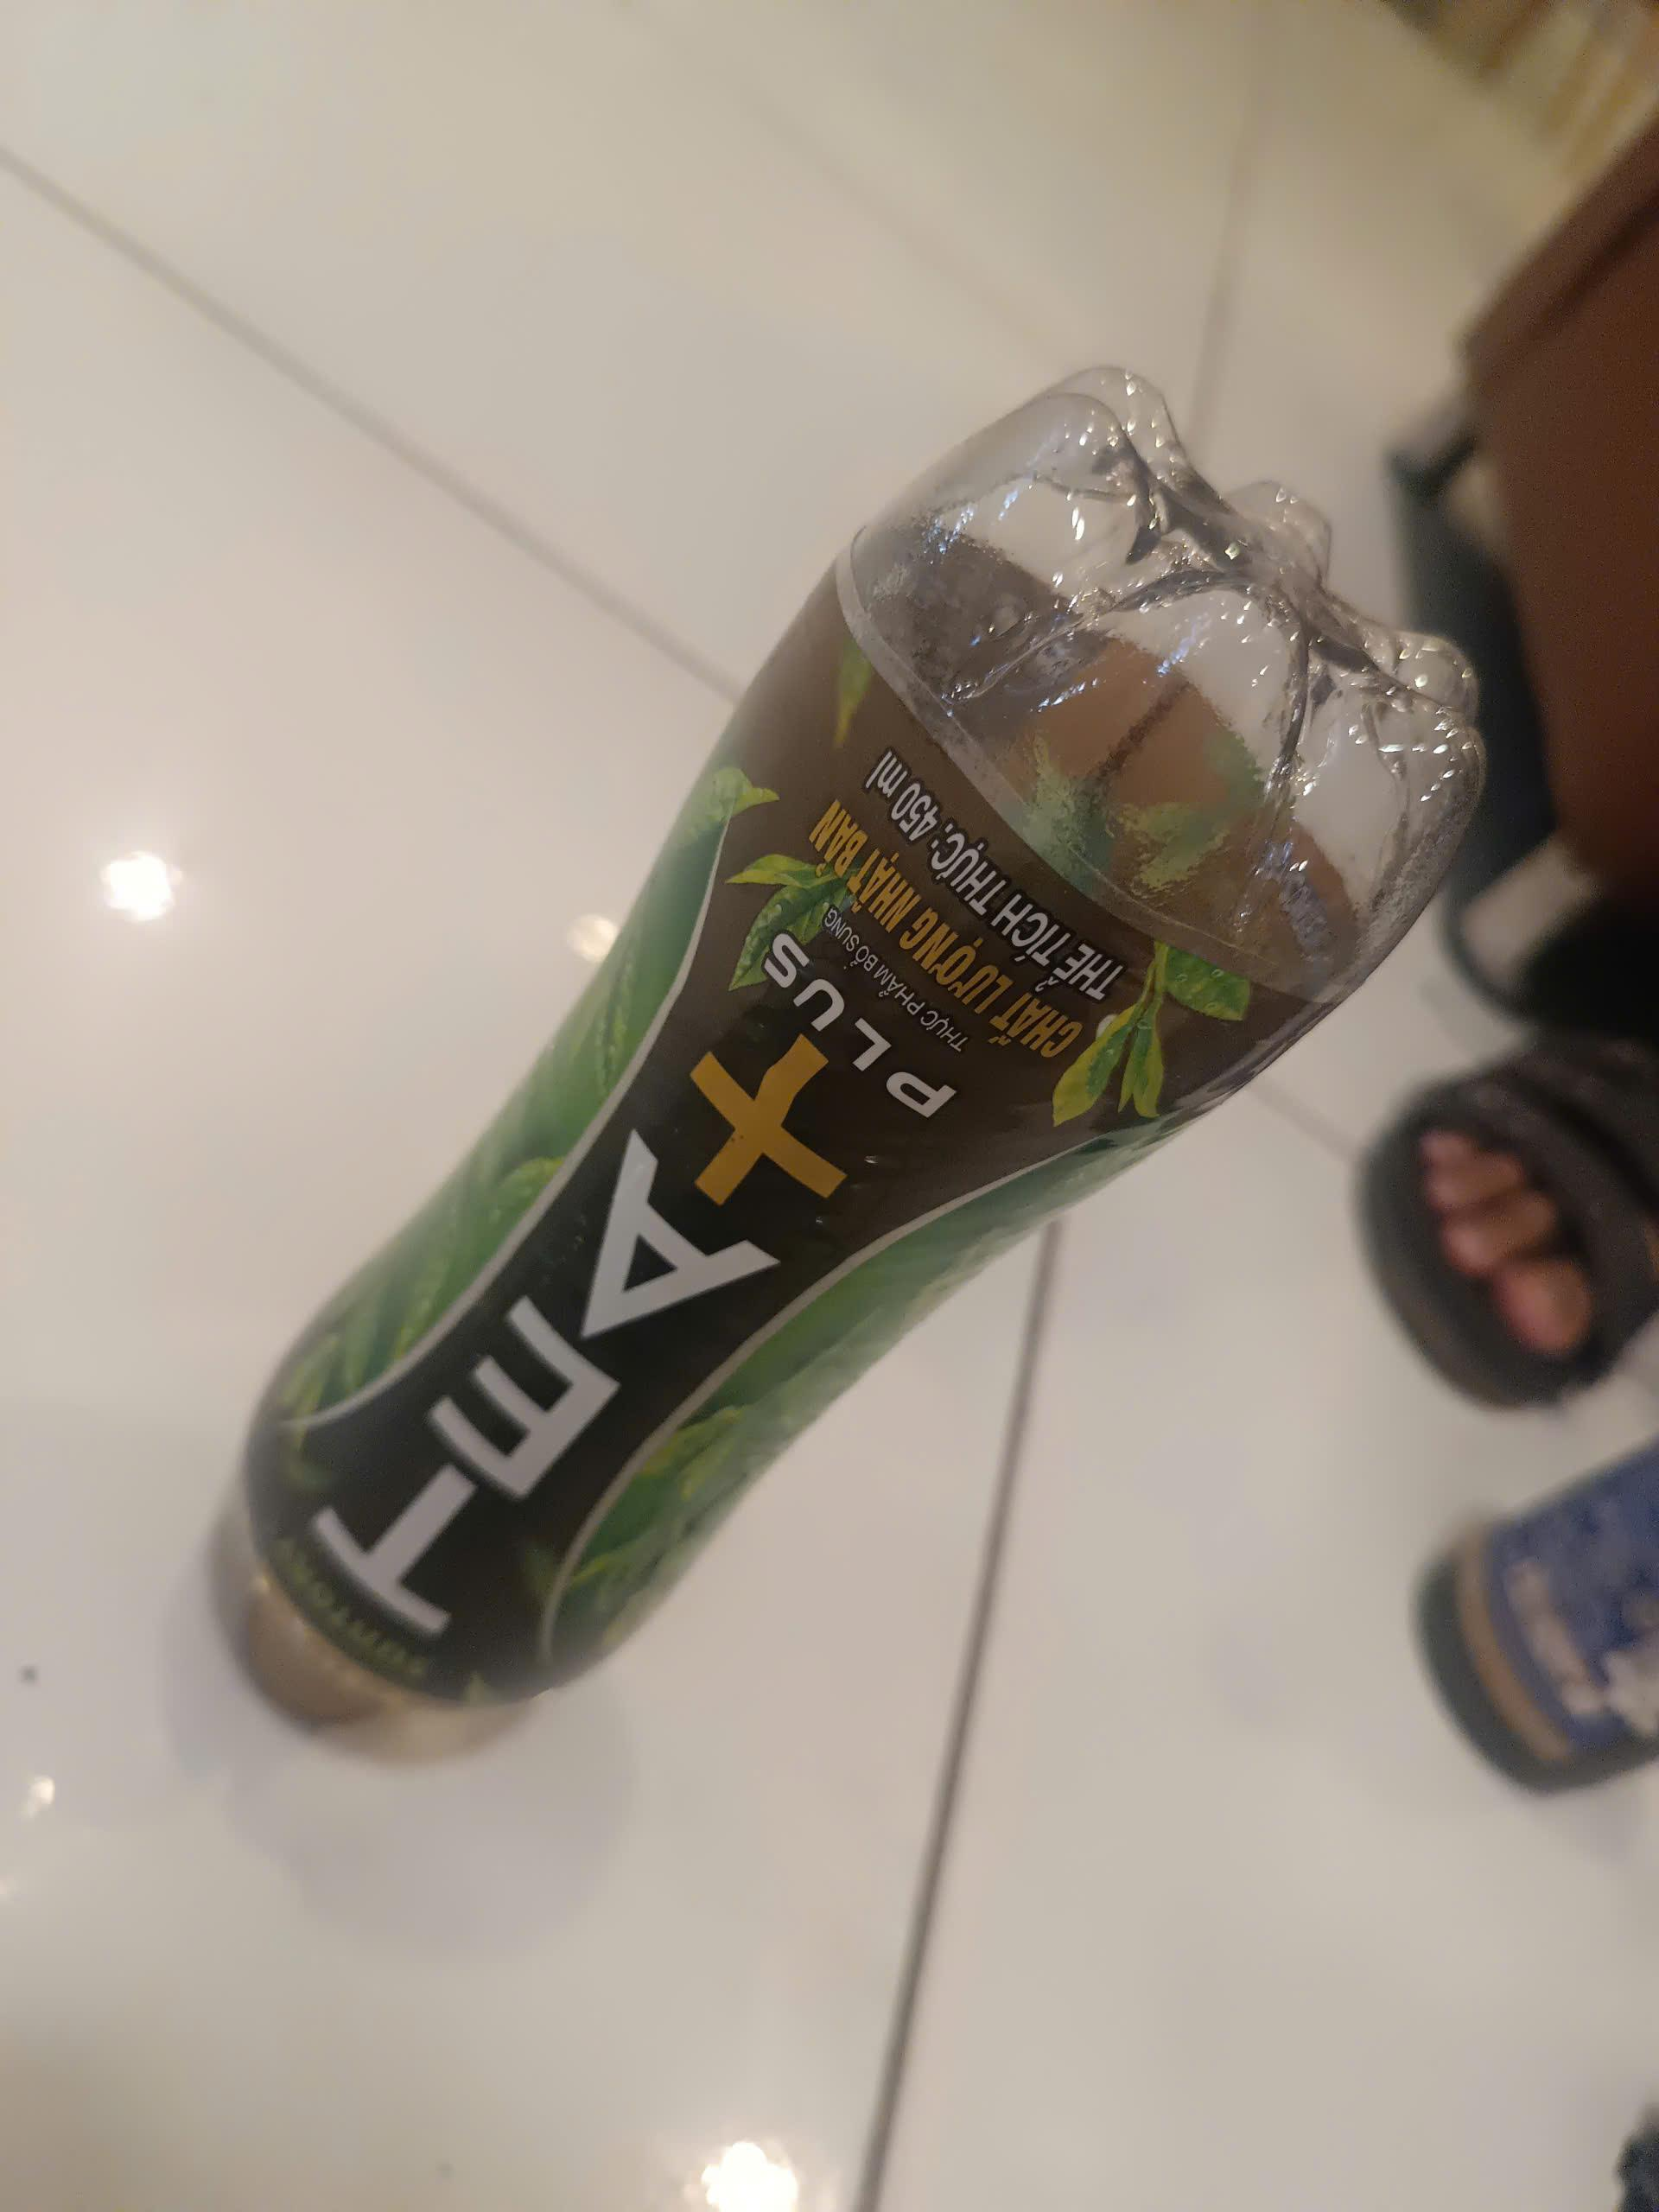Vo co: (225, 359, 1476, 1737)
